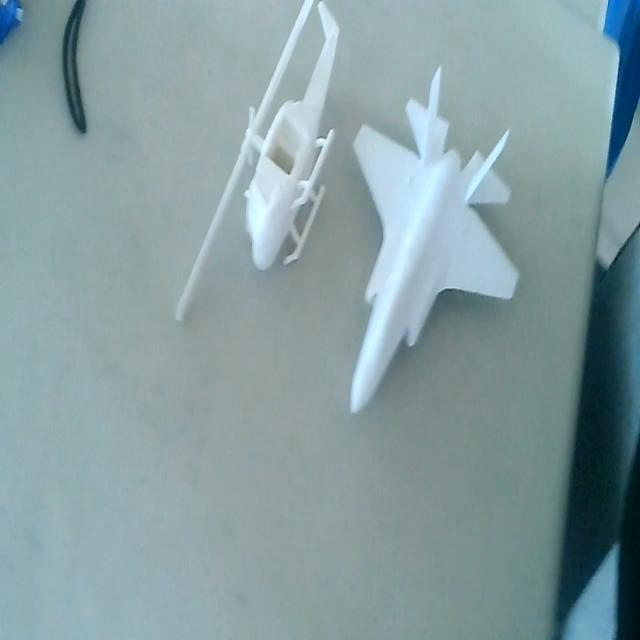Helicopter: (175, 0, 344, 329)
Jet: (342, 63, 526, 418)
